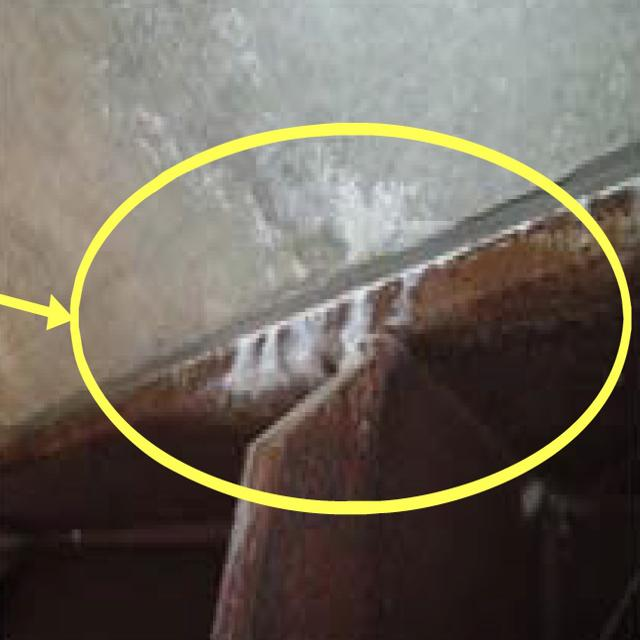freelime: (227, 157, 432, 397)
